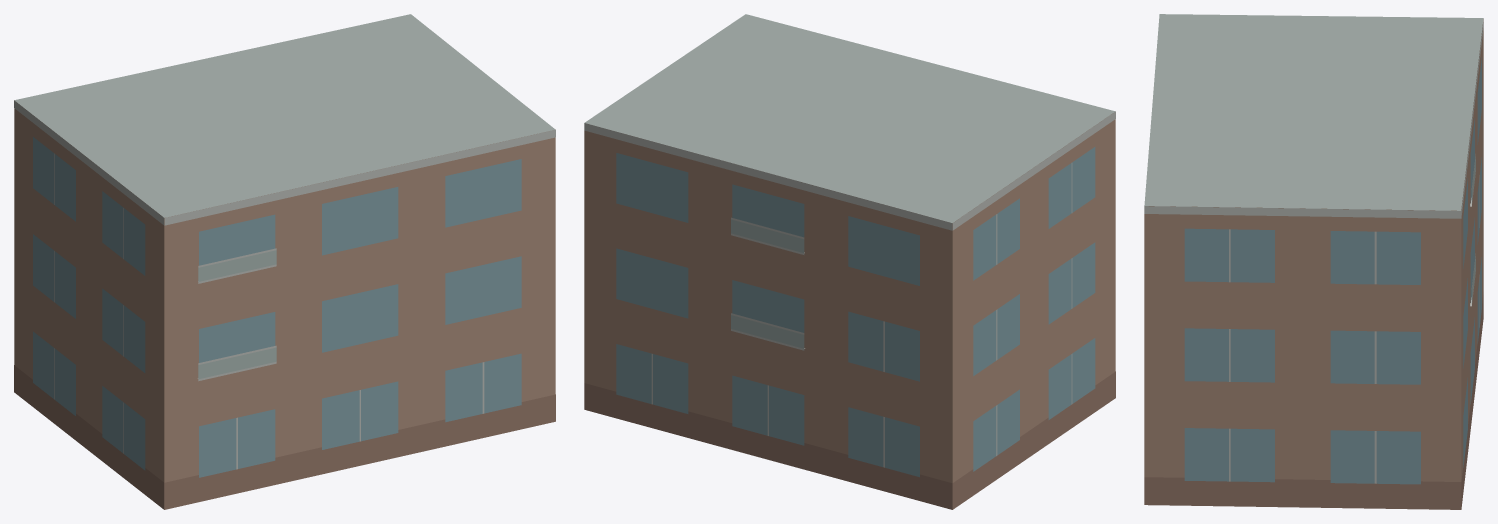
Rendered from survey-upis-32653947.glb.
3 renders of one model, left to right at view 1: azimuth 30°, elevation 25°; view 2: azimuth 150°, elevation 25°; view 3: azimuth 270°, elevation 25°, orthographic. The views are drawn at different scales.
Parts seen in each view (by area): view 1: survey-upis-32653947.tmp; view 2: survey-upis-32653947.tmp; view 3: survey-upis-32653947.tmp.
Boxes of the visible parts, x1,y1,x2,y2 form: survey-upis-32653947.tmp: [14, 14, 555, 509]; survey-upis-32653947.tmp: [584, 14, 1115, 509]; survey-upis-32653947.tmp: [1144, 14, 1483, 509].
Bounding box in the file's own units: 12.93 × 9.15 × 9.42.
